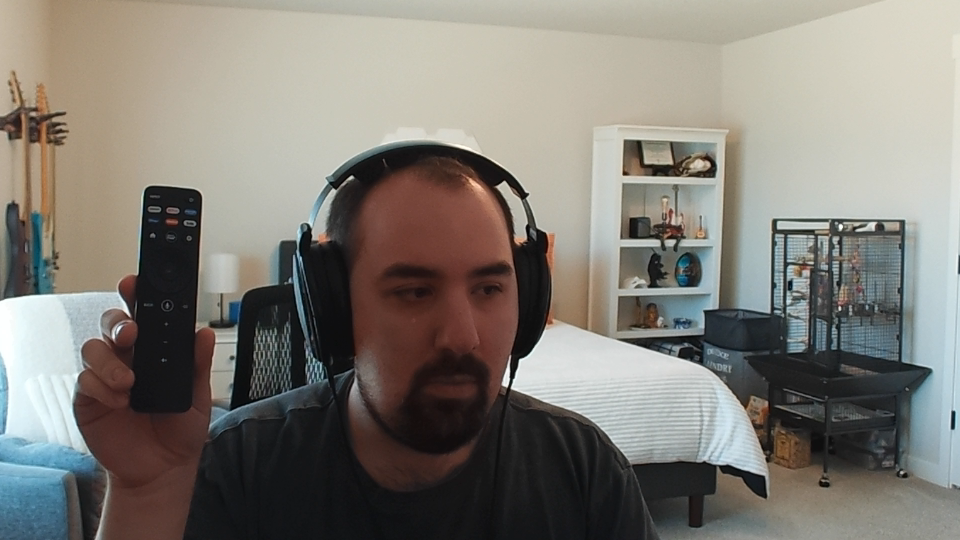TVRemote: (130, 185, 203, 413)
